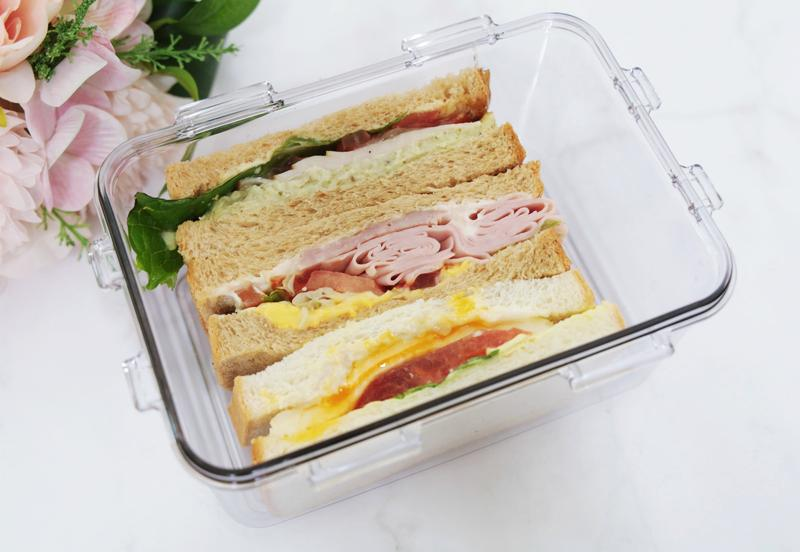Lunch Box: (88, 14, 735, 526)
